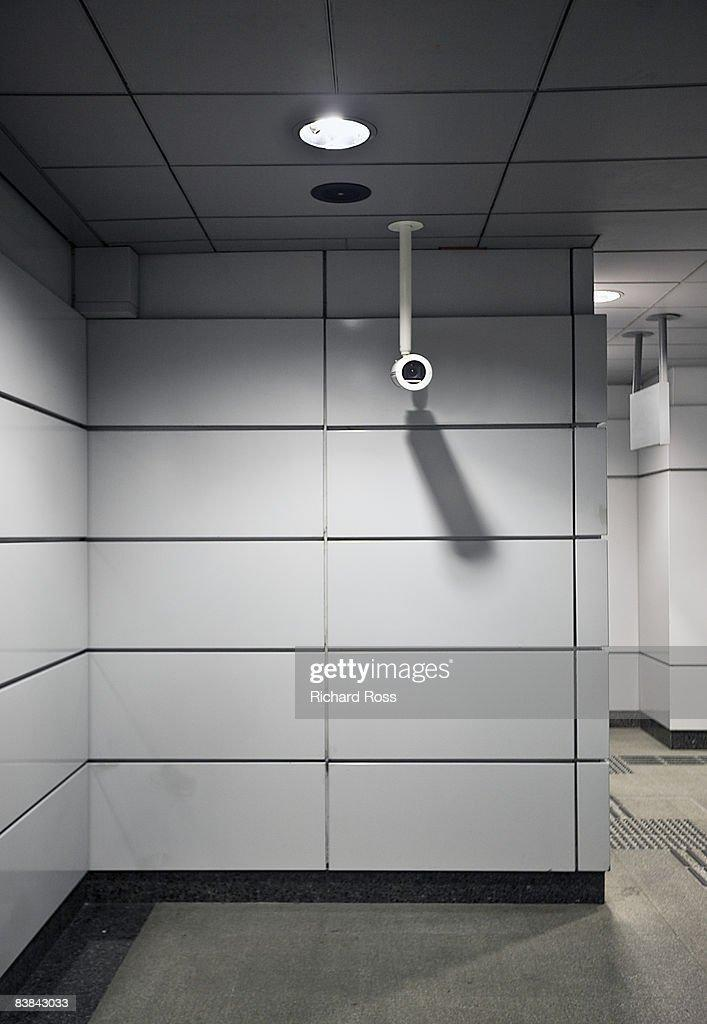CCTV: (390, 315, 433, 391)
